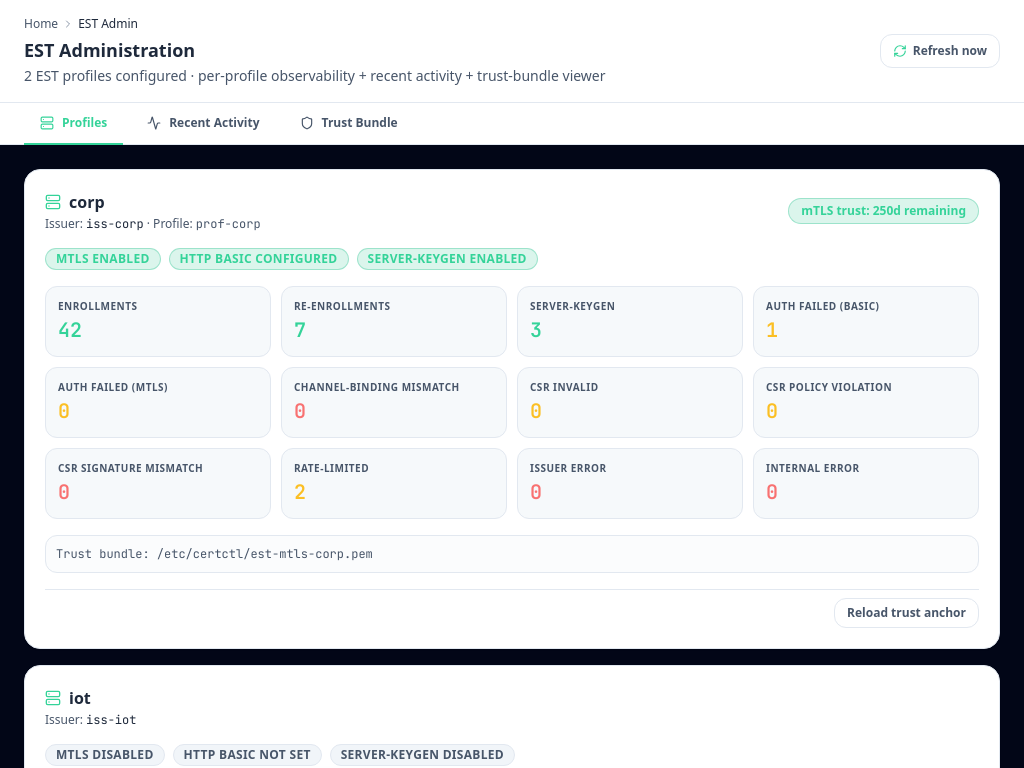
Test: ESTAdminPage — reload modal › Cancel skips mutation
Click the button with test id "est-reload-trust-corp" at (906, 613), box [834,598,979,628]
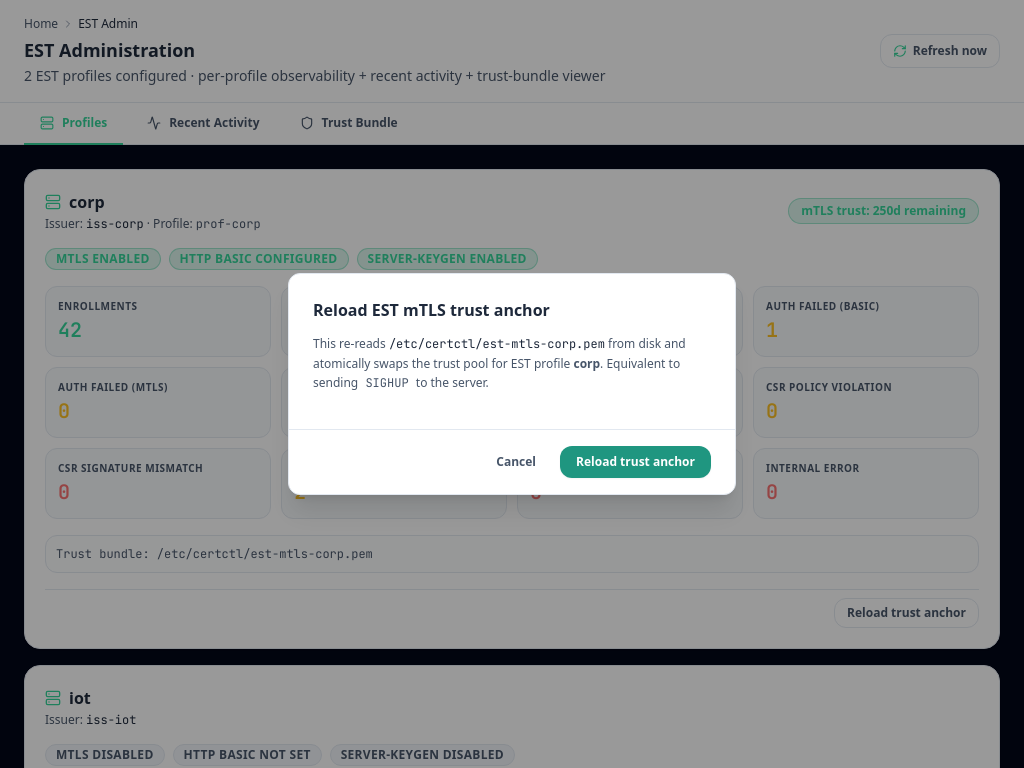
Click the button with test id "est-reload-cancel" at (516, 462), box [480,446,552,478]
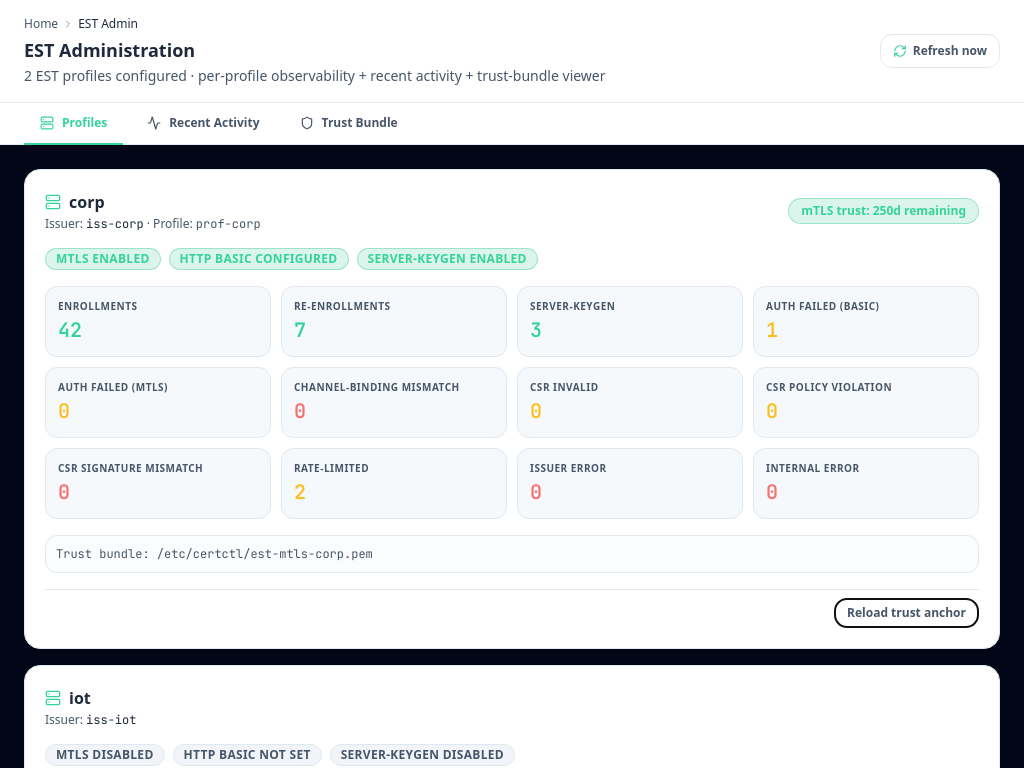
expect the button with test id "est-reload-confirm" is gone: met
